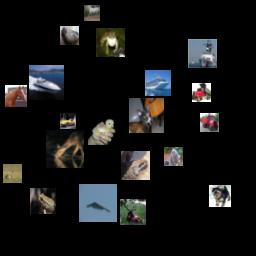airplane: (79, 184, 117, 222)
automobile: (60, 113, 76, 129)
bird: (88, 113, 120, 145), (3, 164, 22, 183)
cat: (129, 98, 164, 133), (60, 26, 79, 45), (164, 147, 183, 166)
deer: (46, 130, 84, 168), (120, 199, 146, 225)
dog: (209, 185, 231, 207)
frog: (96, 28, 125, 57), (121, 151, 150, 180), (30, 188, 56, 214)
ship: (29, 65, 64, 100), (188, 39, 217, 68), (145, 70, 171, 96)
truck: (192, 83, 211, 102), (200, 113, 219, 132)
